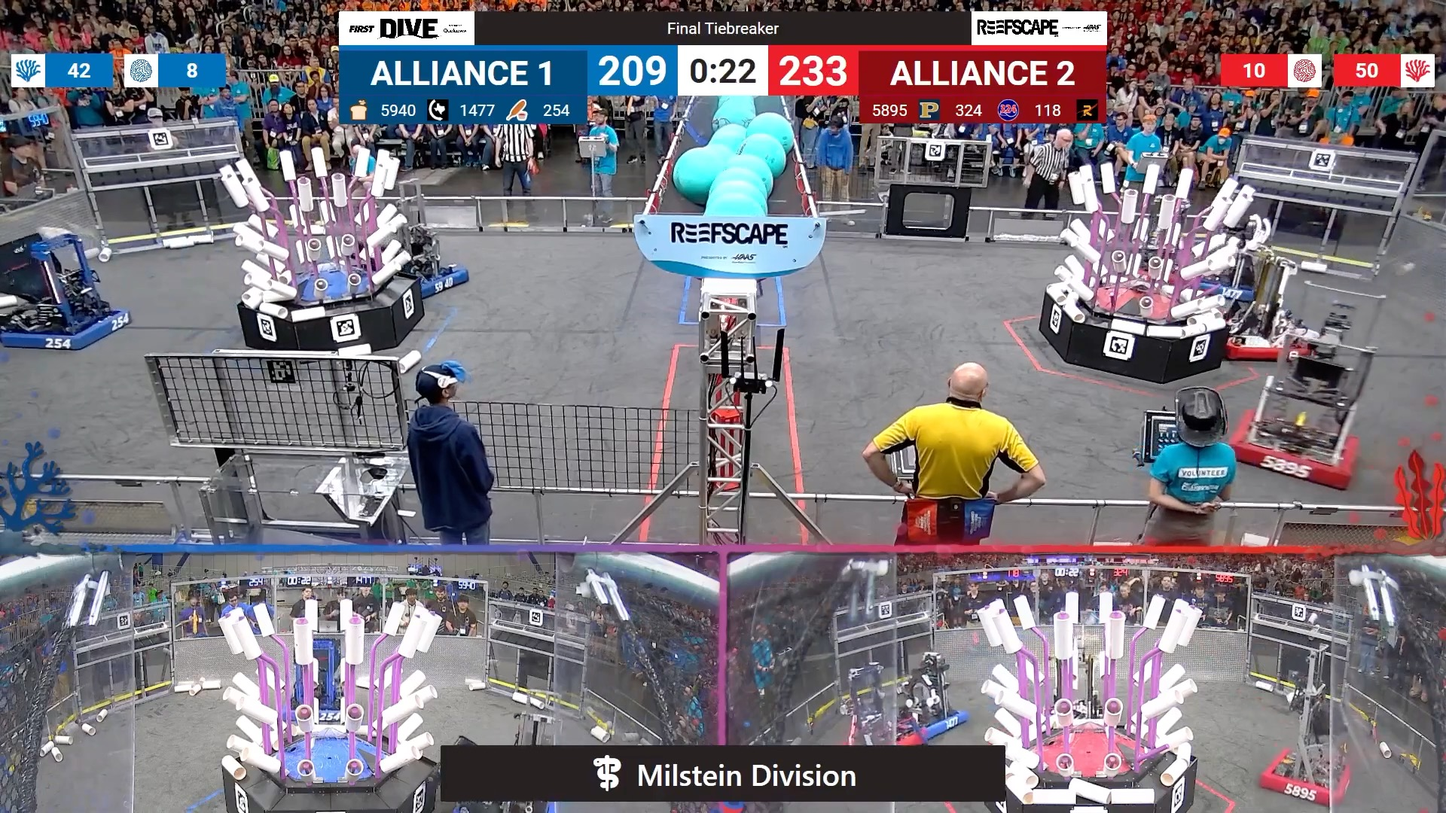bumpers: (1227, 409, 1363, 492), (2, 302, 139, 358), (1251, 746, 1360, 807), (1219, 318, 1324, 371), (385, 257, 474, 299), (889, 704, 975, 742)
